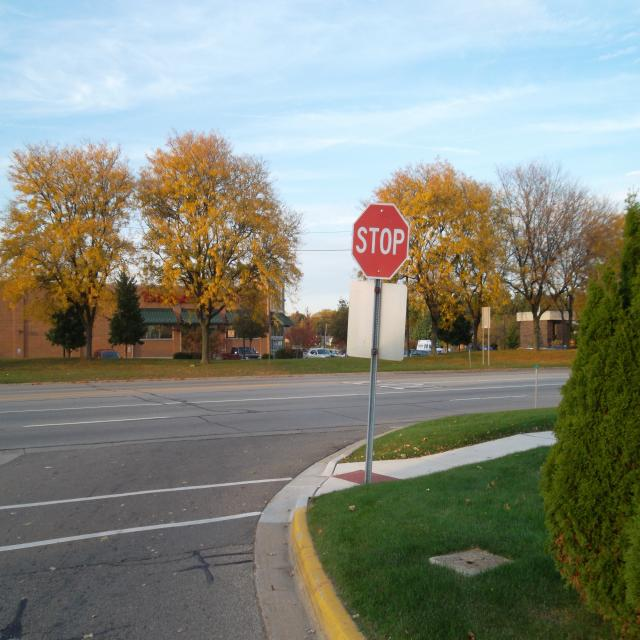stop: (351, 202, 409, 281)
